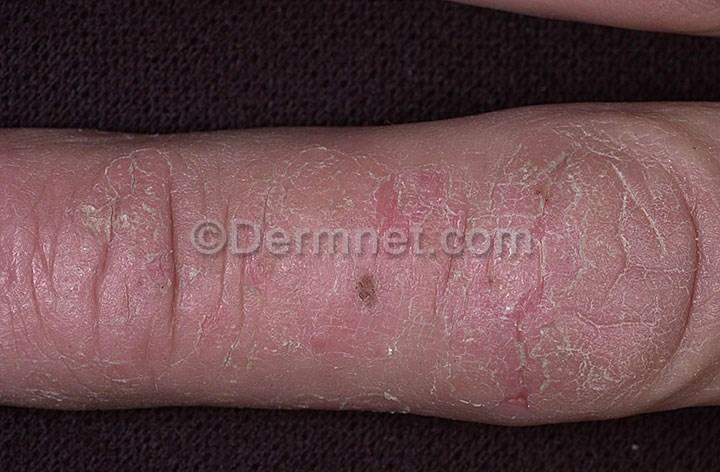Eczema: (189, 253, 711, 399), (193, 137, 523, 215), (71, 146, 185, 368), (537, 124, 720, 248), (2, 146, 70, 370)
